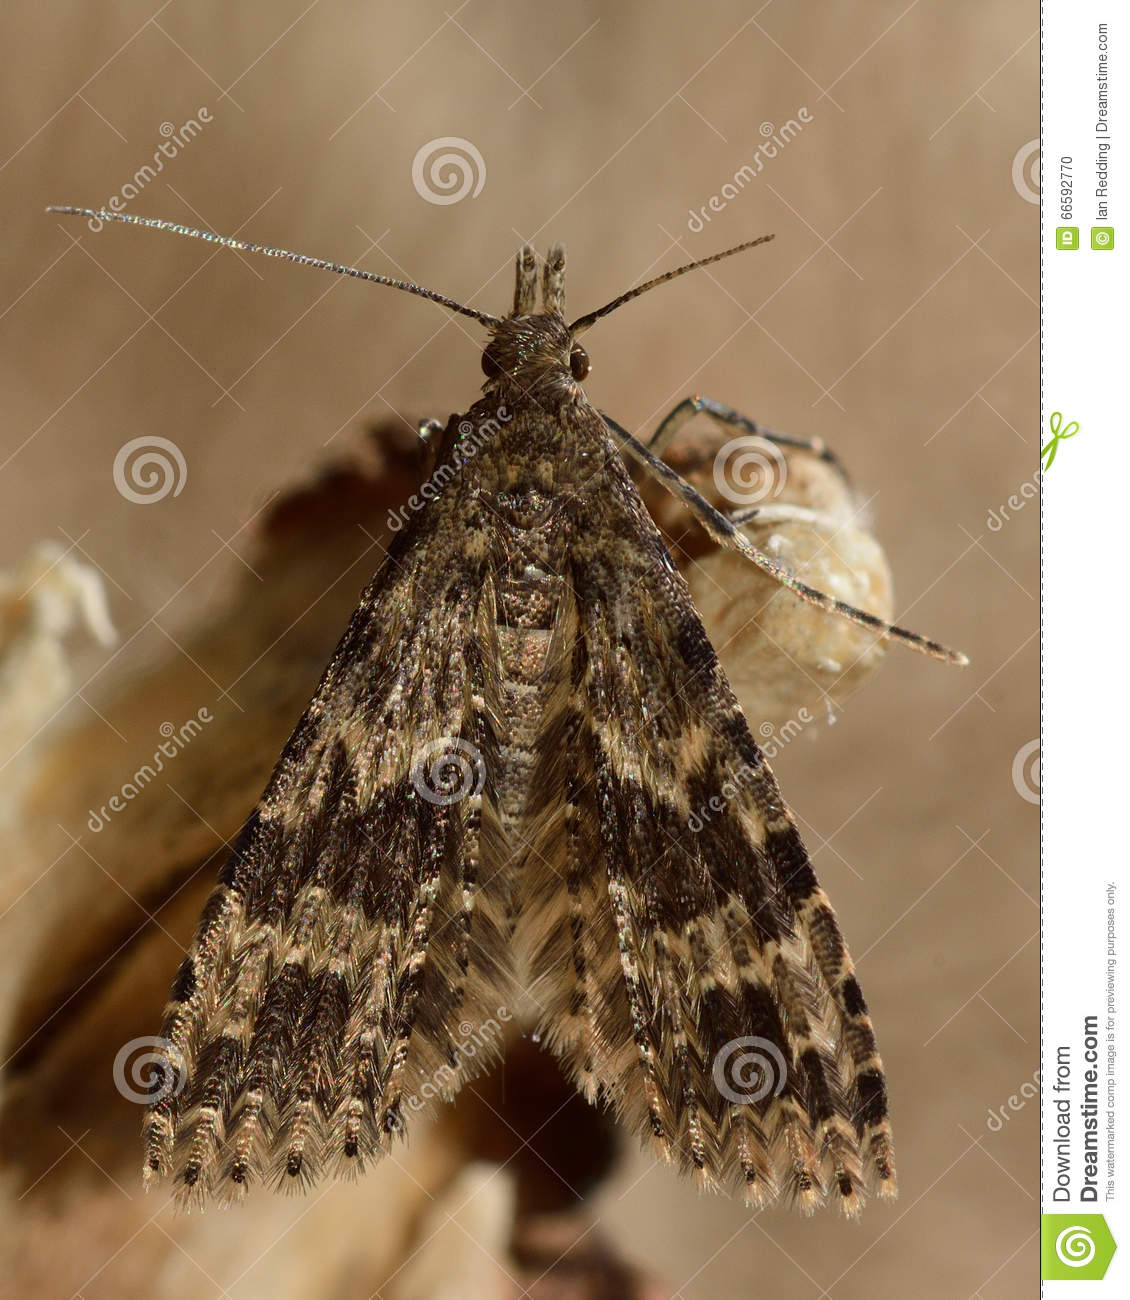Alucitidae: (65, 202, 986, 1222)
moth: (63, 200, 984, 1219)
